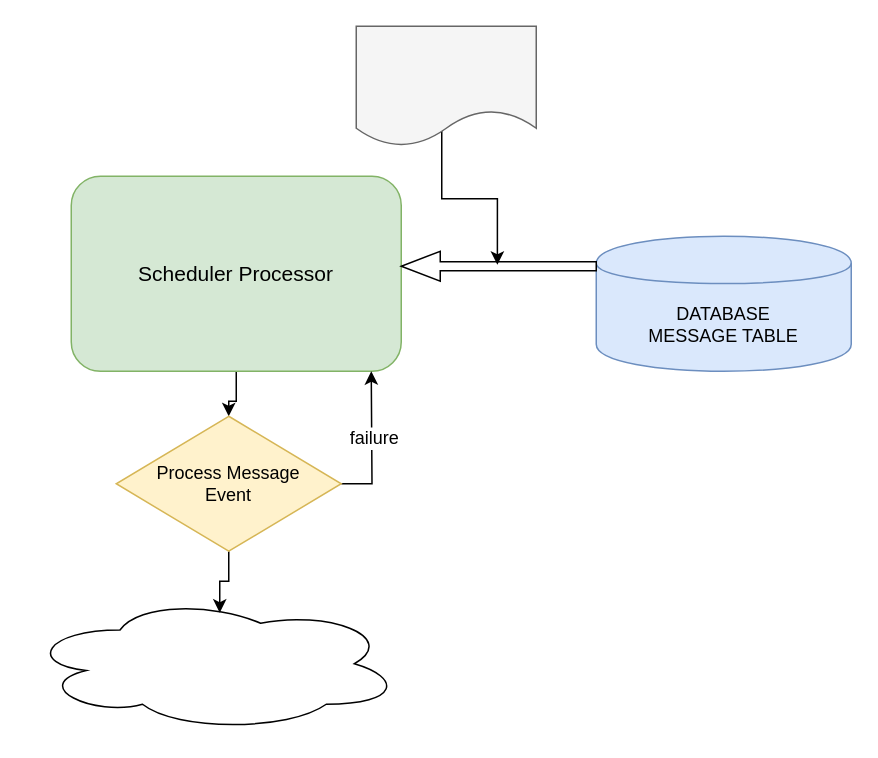
The diagram is 878 pixels wide and 758 high, and some of its shapes have lost their labels. The shapes that lost their labels are listed below. From the top down, each one's centre as x and y in pixels, then its label:
the point at 445,85: Pulling message Work as Listener for new records
the point at 213,663: Downstream System
